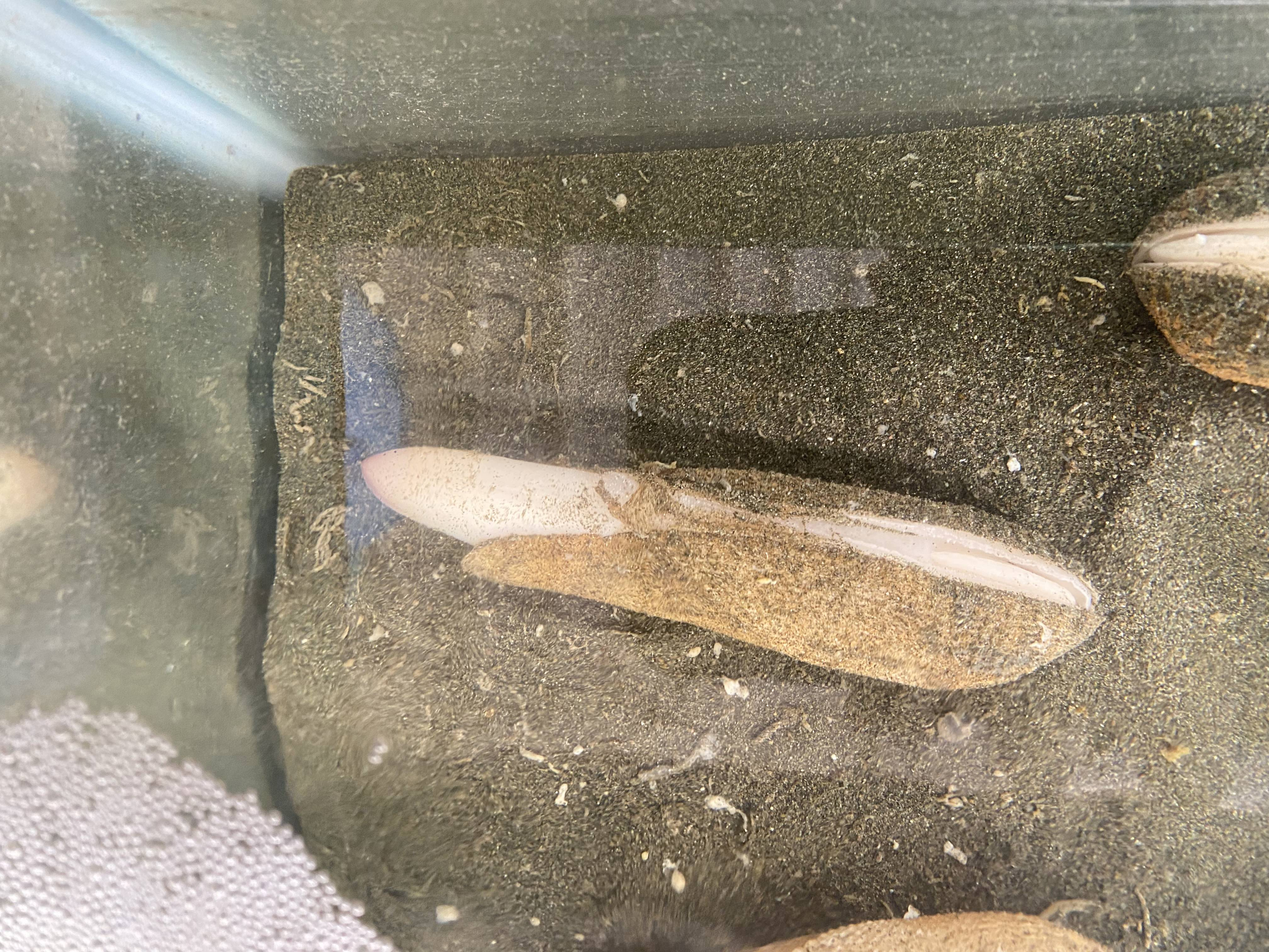Healthy: (366, 447, 1101, 689)
